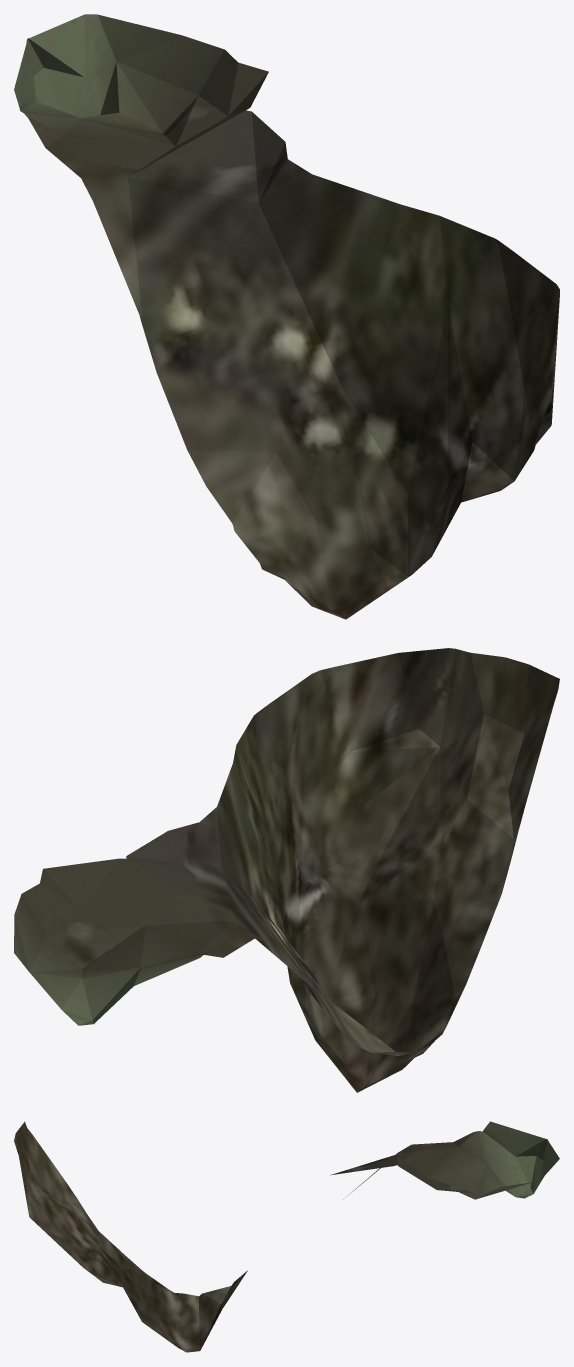
3 renders of one model, top to bottom at view 1: azimuth 30°, elevation 25°; view 2: azimuth 150°, elevation 25°; view 3: azimuth 270°, elevation 25°, orthographic. The views are drawn at different scales.
Size of the model in its own units: 0.5553 by 0.9068 by 2.13.
Materials: 1 (1 with a texture image).
